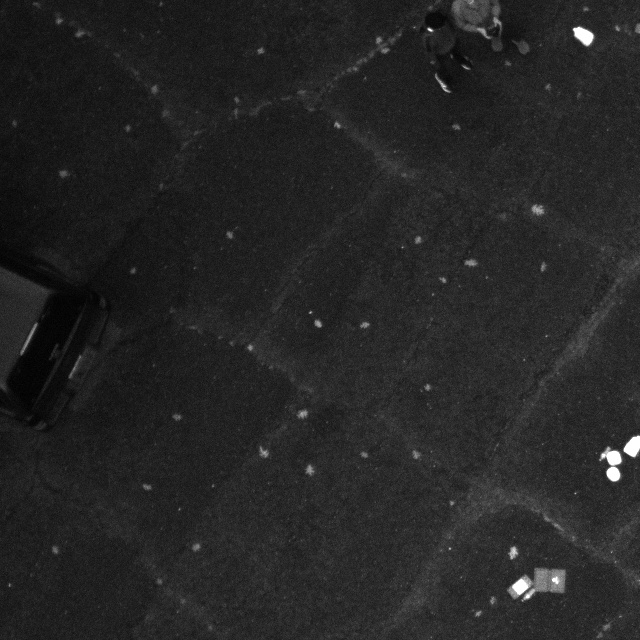bottle: (517, 588, 536, 602)
can: (568, 19, 599, 50)
container: (531, 566, 567, 596), (504, 574, 535, 599)
